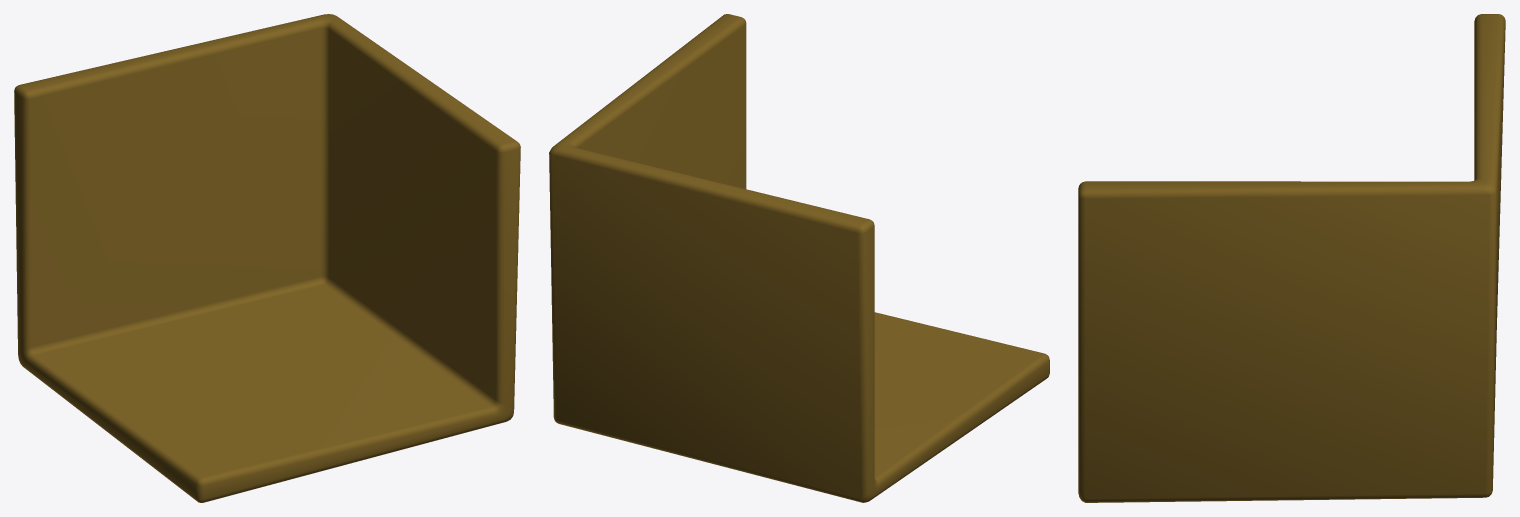
The model's file is BackGround.glb.
The picture shows the model from 3 angles, left to right: view 1: azimuth 30°, elevation 25°; view 2: azimuth 150°, elevation 25°; view 3: azimuth 270°, elevation 25°; orthographic projection. The views are drawn at different scales.
Visible parts, largest first — view 1: Plane; view 2: Plane; view 3: Plane.
Part boxes in pixels (x1,y1,x2,y2): Plane: (14,14,520,502); Plane: (549,14,1049,502); Plane: (1078,14,1505,502).
Size of the model in its own units: 42.29 by 35.5 by 42.29.
